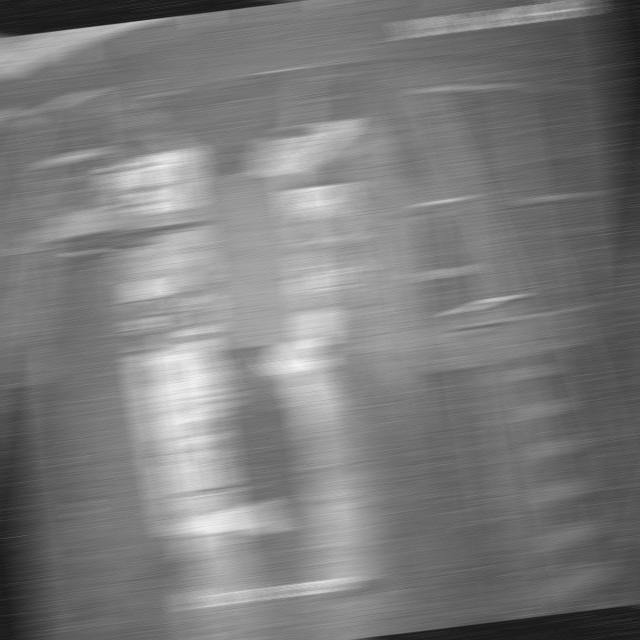cement_mixer_truck: (193, 281, 317, 497)
